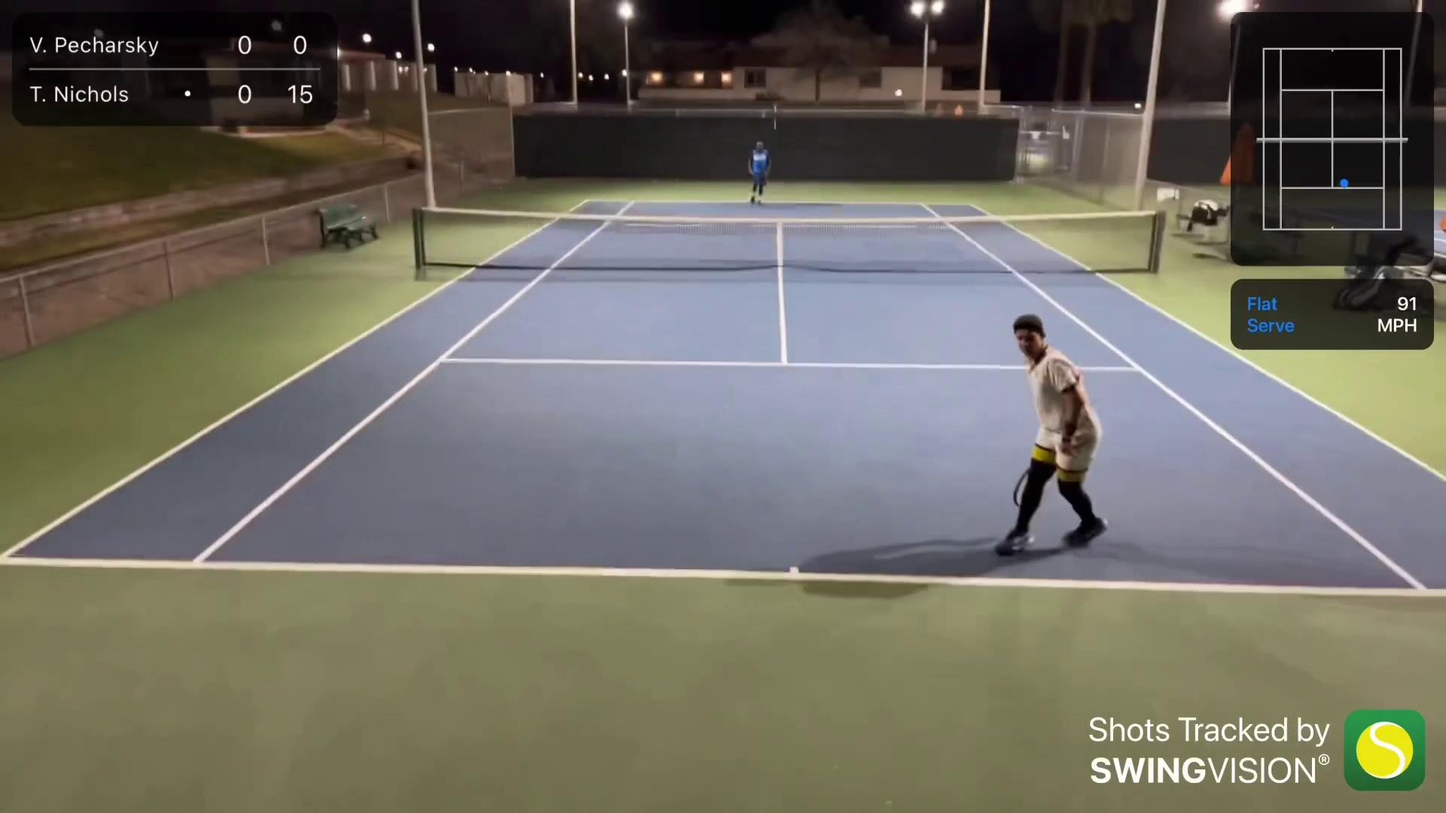ball: (360, 32, 368, 37)
